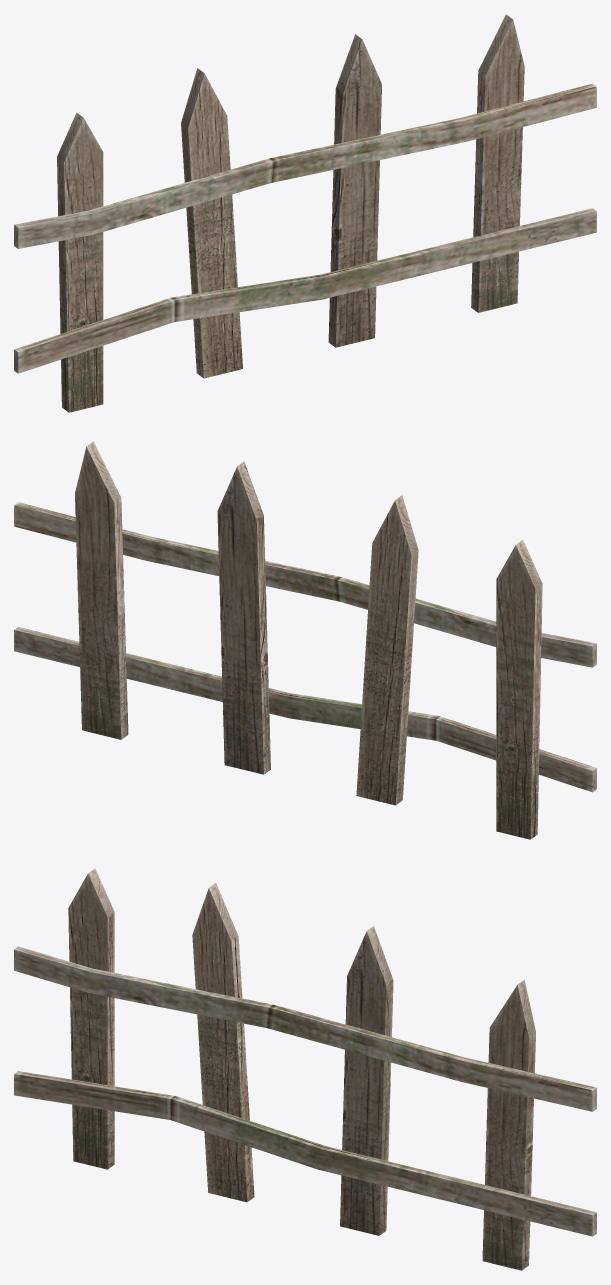
Rendered from Fence.fbx.
The picture shows the model from 3 angles, top to bottom: view 1: azimuth 30°, elevation 25°; view 2: azimuth 150°, elevation 25°; view 3: azimuth 330°, elevation 25°; orthographic projection.
Parts seen in each view (by area): view 1: polySurface5; view 2: polySurface5; view 3: polySurface5.
Boxes of the visible parts, x1=… form: polySurface5: x1=14, y1=14, x2=596, y2=412; polySurface5: x1=14, y1=441, x2=596, y2=839; polySurface5: x1=14, y1=868, x2=596, y2=1270.
Size of the model in its own units: 1 by 0.506 by 0.0341.
